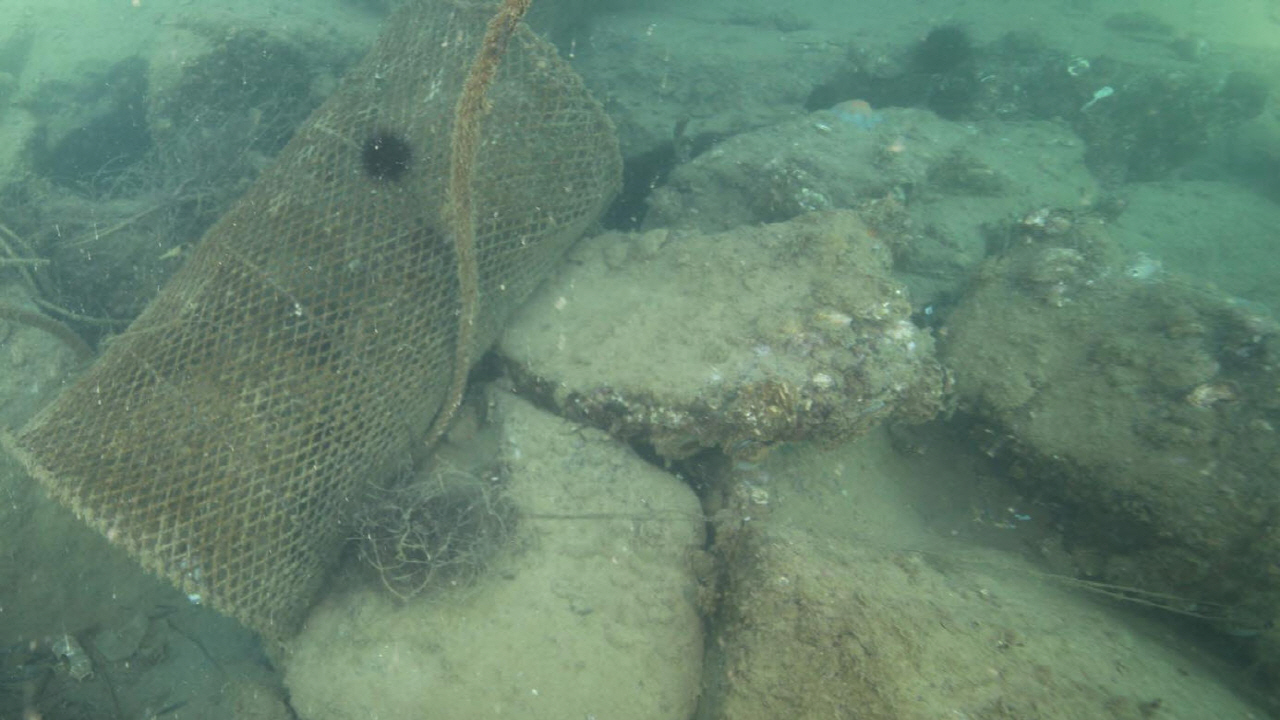spring fish trap: (0, 0, 624, 640)
